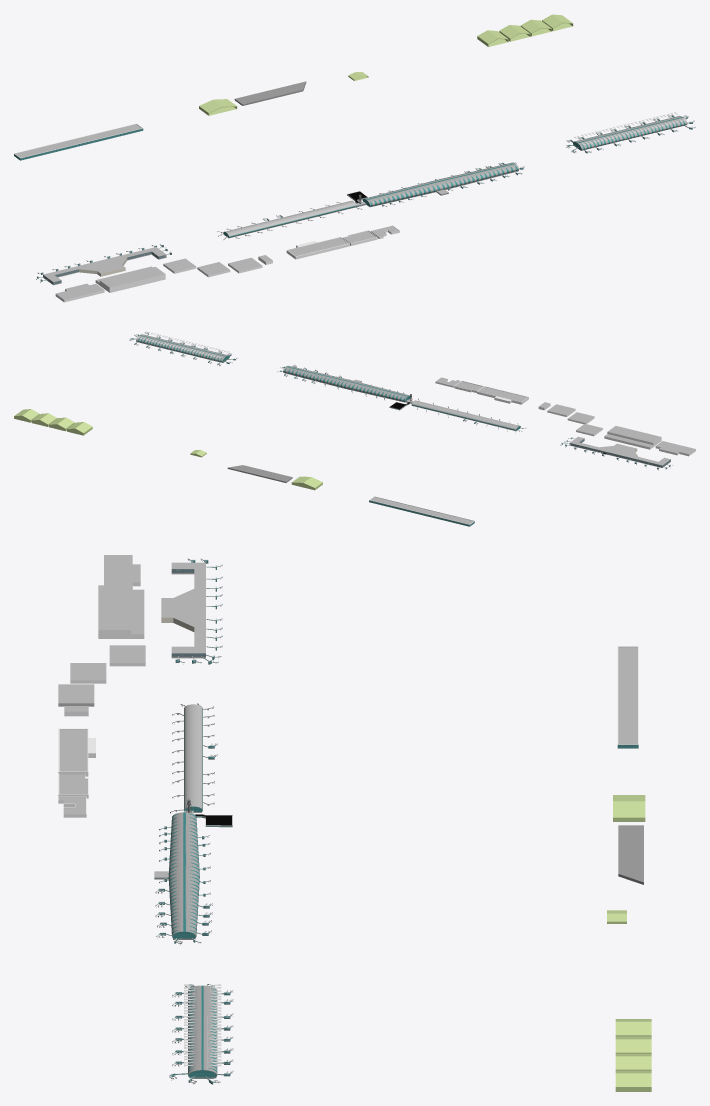
Rendered from dxbgeofs3.glb.
3 renders of one model, top to bottom at view 1: azimuth 30°, elevation 25°; view 2: azimuth 150°, elevation 25°; view 3: azimuth 270°, elevation 25°, orthographic. The views are drawn at different scales.
Visible parts, largest first — view 1: Plane, Plane.008, Circle.002, Plane.001, Circle.004, Cube.013, Circle.001, Plane.009, Circle, Plane.003; view 2: Plane, Plane.008, Circle.002, Plane.001, Circle.004, Cube.013, Circle.001, Plane.009, Plane.003; view 3: Plane, Plane.008, Circle.002, Plane.001, Circle.004, Cube.013, Circle.001, Plane.009, Plane.003, Cube, Circle.
Part boxes in pixels (box(x1,y1,x2,y2)): Plane: box(55, 225, 399, 302); Plane.008: box(199, 14, 573, 115); Circle.002: box(362, 162, 519, 206); Plane.001: box(43, 247, 166, 285); Circle.004: box(573, 116, 687, 150); Cube.013: box(14, 123, 143, 160); Circle.001: box(223, 200, 356, 238); Plane.009: box(234, 81, 306, 105); Circle: box(36, 115, 695, 282); Plane.003: box(573, 112, 686, 145); Plane: box(435, 377, 695, 456); Plane.008: box(14, 409, 322, 490); Circle.002: box(283, 365, 410, 401); Plane.001: box(569, 436, 670, 467); Circle.004: box(136, 334, 229, 362); Cube.013: box(369, 496, 474, 526); Circle.001: box(411, 400, 520, 431); Plane.009: box(227, 465, 292, 482); Plane.003: box(137, 331, 229, 358); Plane: box(58, 555, 145, 817); Plane.008: box(607, 795, 651, 1091); Circle.002: box(168, 812, 199, 938); Plane.001: box(161, 562, 205, 658); Circle.004: box(188, 985, 217, 1078); Cube.013: box(617, 646, 638, 748); Circle.001: box(184, 704, 202, 812); Plane.009: box(618, 825, 643, 884); Plane.003: box(184, 984, 221, 1066); Cube: box(158, 559, 230, 1084); Circle: box(155, 558, 233, 1082).
Bounding box in the file's own units: 3342 × 72.16 × 1576.
9 materials, 5 textured.
